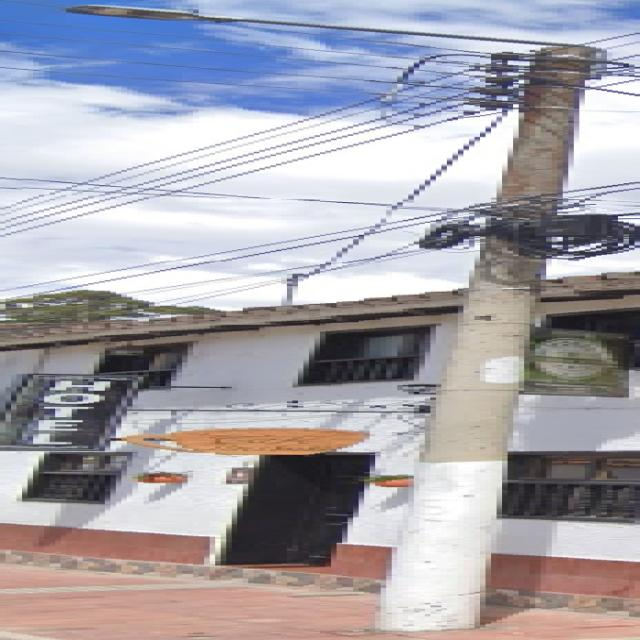Fachada: (0, 290, 458, 590), (491, 270, 634, 610)
Poste: (66, 5, 623, 631)
